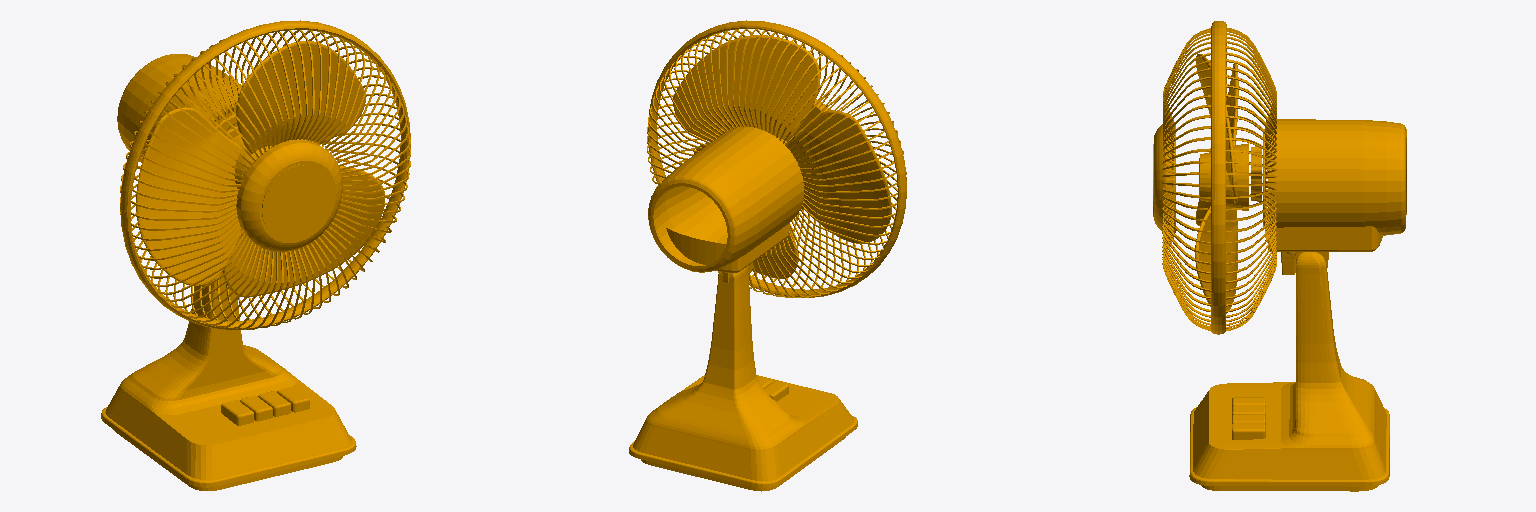
The robot description file, URDF, robot "none":
<robot name="none">
       <link name="none">
           <visual>
               <origin rpy="1.57 0 0" xyz="0 0 0" />
               <geometry>
                   <mesh filename="tableFan.obj" />
               </geometry>
           </visual>
          <collision>
              <geometry>
                  <box size="0.676789 1.000000 0.545188" />
              </geometry>
          </collision>

          <inertial>
            <mass value="0.0" />
            <inertia ixx="0.0" ixy="0.0" ixz="0.0" iyy="0.0" iyz="0.0" izz="0.0" />
          </inertial>
      </link>
  </robot>

--- Render facts (derived) ---
3 views of the same robot in one strip: view 1: azimuth 30°, elevation 25°; view 2: azimuth 150°, elevation 25°; view 3: azimuth 270°, elevation 25° (orthographic).
Robot: none — 1 links, 0 joints (none); root link none; default pose: every joint at zero.
Links seen in each view (by area): view 1: none; view 2: none; view 3: none.
Link boxes in pixels (box(x1,y1,x2,y2)): none: box(101, 20, 410, 490); none: box(629, 20, 906, 491); none: box(1153, 21, 1406, 491).
Size in the robot's own frame: 0.6768 by 0.5452 by 1 metres.
1 mesh visuals loaded from 1 distinct referenced files (1 OBJ).